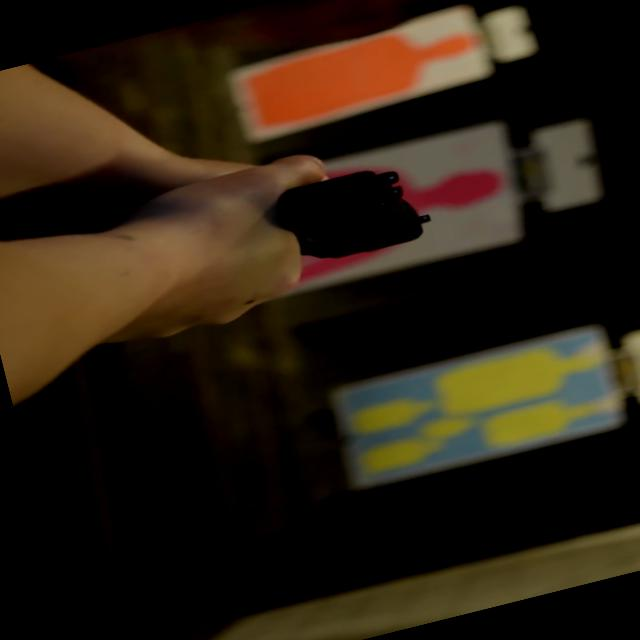handgun: (177, 134, 468, 318)
